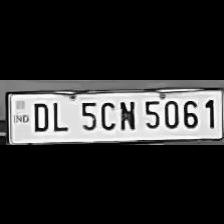0: (161, 96, 179, 128)
1: (200, 96, 218, 128)
5: (74, 96, 98, 132), (140, 95, 160, 129)
6: (179, 96, 199, 128)
C: (98, 97, 116, 130)
D: (28, 98, 52, 132)
L: (49, 97, 71, 132)
N: (116, 97, 138, 131)
